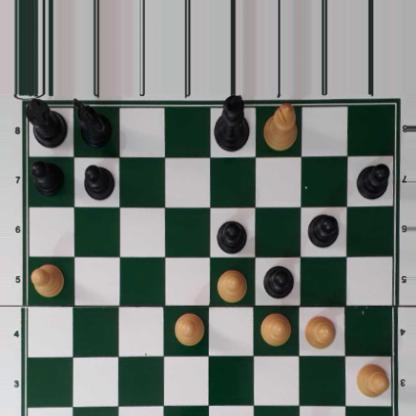black-king: (212, 94, 248, 152)
black-knight: (73, 99, 112, 146)
black-pawn: (356, 161, 390, 200), (30, 160, 64, 196), (83, 161, 114, 199), (307, 211, 339, 246), (215, 218, 247, 252), (263, 263, 294, 298)
black-rook: (23, 97, 67, 147)
white-bishop: (262, 101, 297, 150)
white-pawn: (214, 268, 248, 303), (354, 363, 389, 397), (302, 313, 335, 349), (30, 263, 64, 297), (259, 311, 290, 346), (173, 313, 204, 345)
